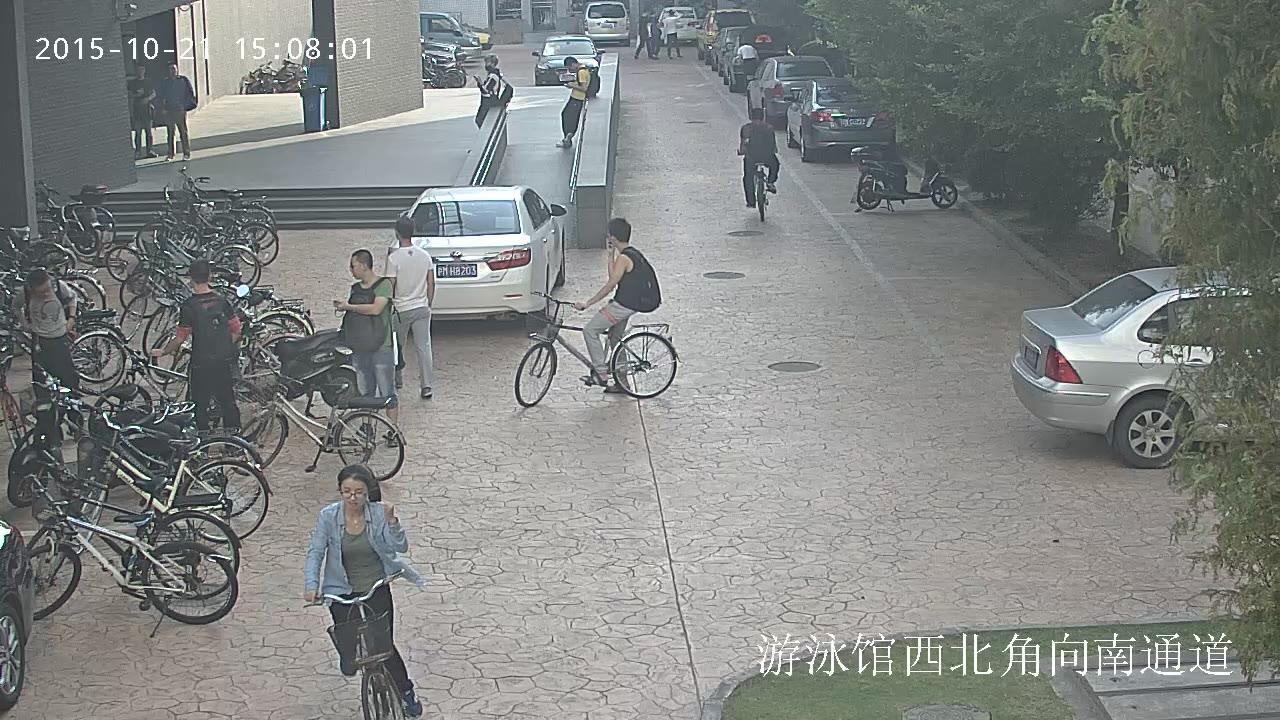person: (514, 217, 680, 406), (302, 463, 424, 720), (302, 464, 422, 716), (147, 261, 240, 456), (574, 217, 661, 394), (333, 249, 398, 447), (11, 270, 80, 411), (384, 217, 435, 398), (736, 108, 780, 222), (736, 108, 780, 208), (555, 56, 600, 148), (158, 62, 196, 161), (473, 54, 513, 129), (127, 64, 158, 160), (735, 41, 760, 88), (663, 9, 682, 58), (635, 8, 652, 59), (646, 11, 661, 59)
